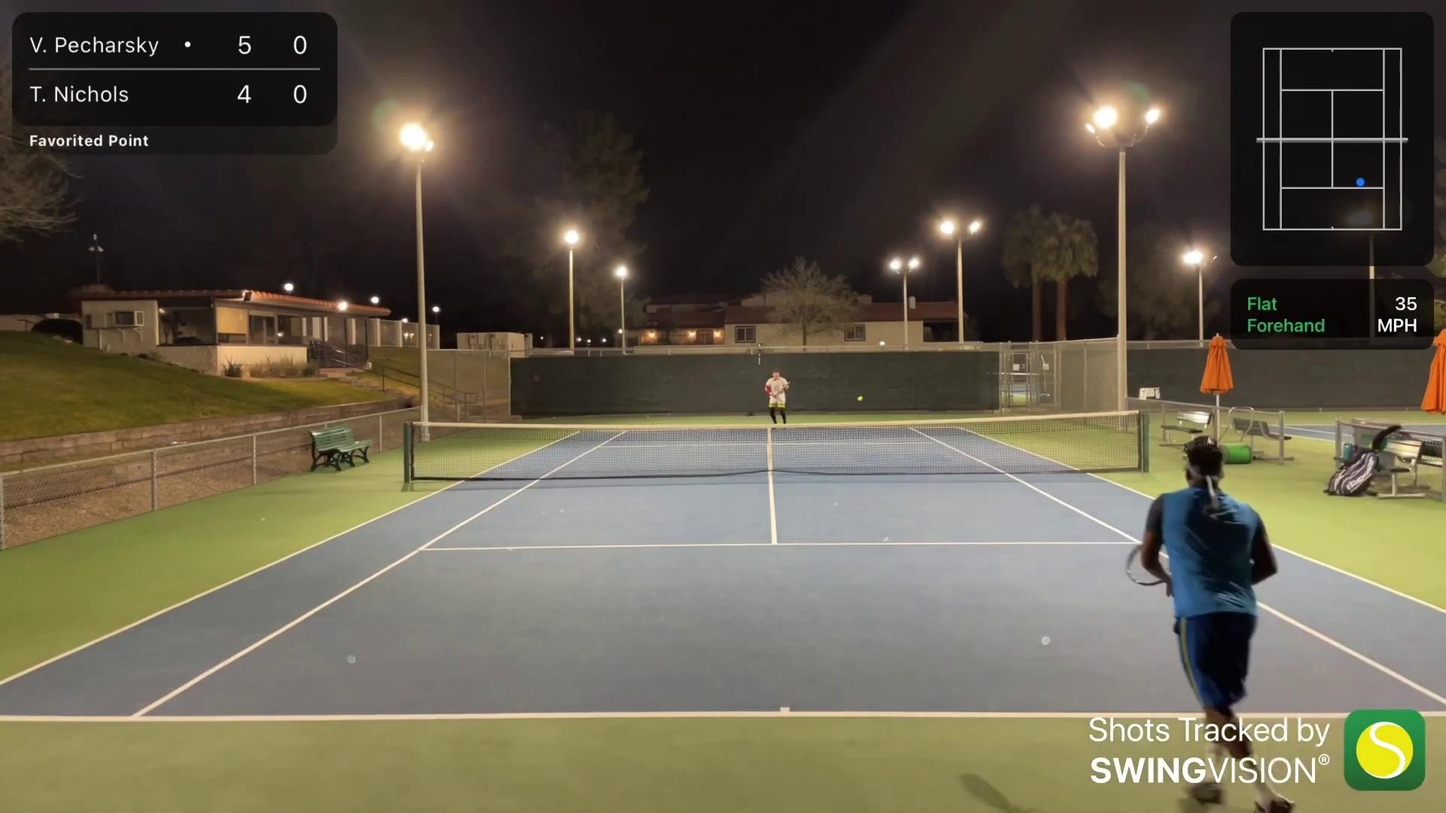ball: (854, 397, 863, 403)
